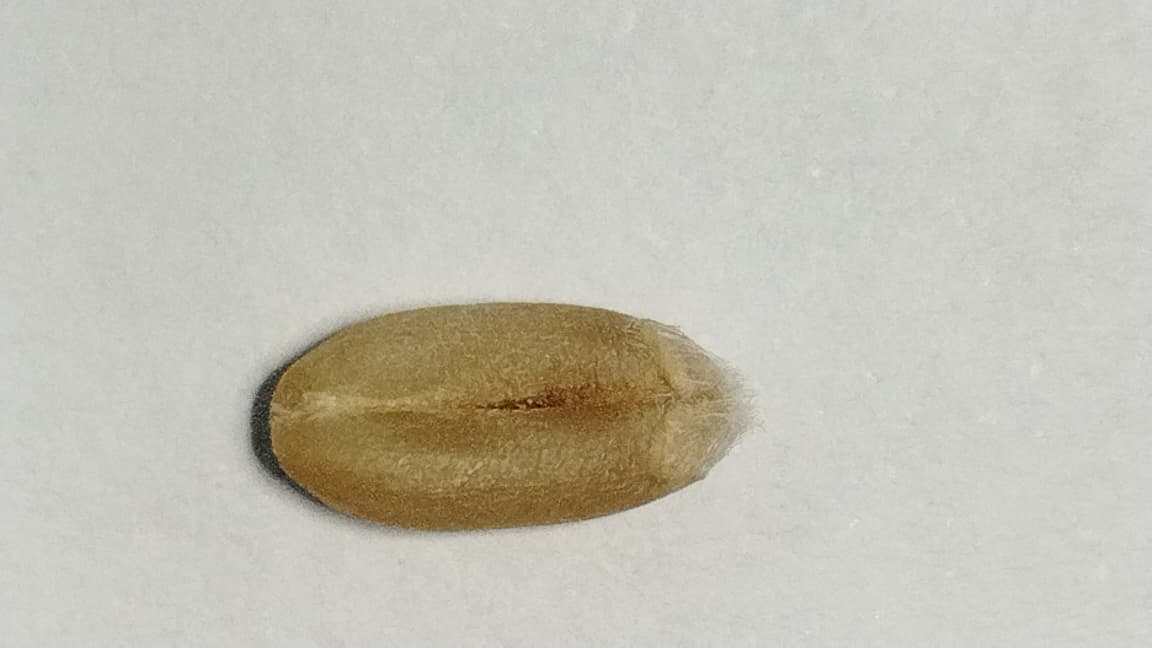healthy: (261, 303, 741, 532)
